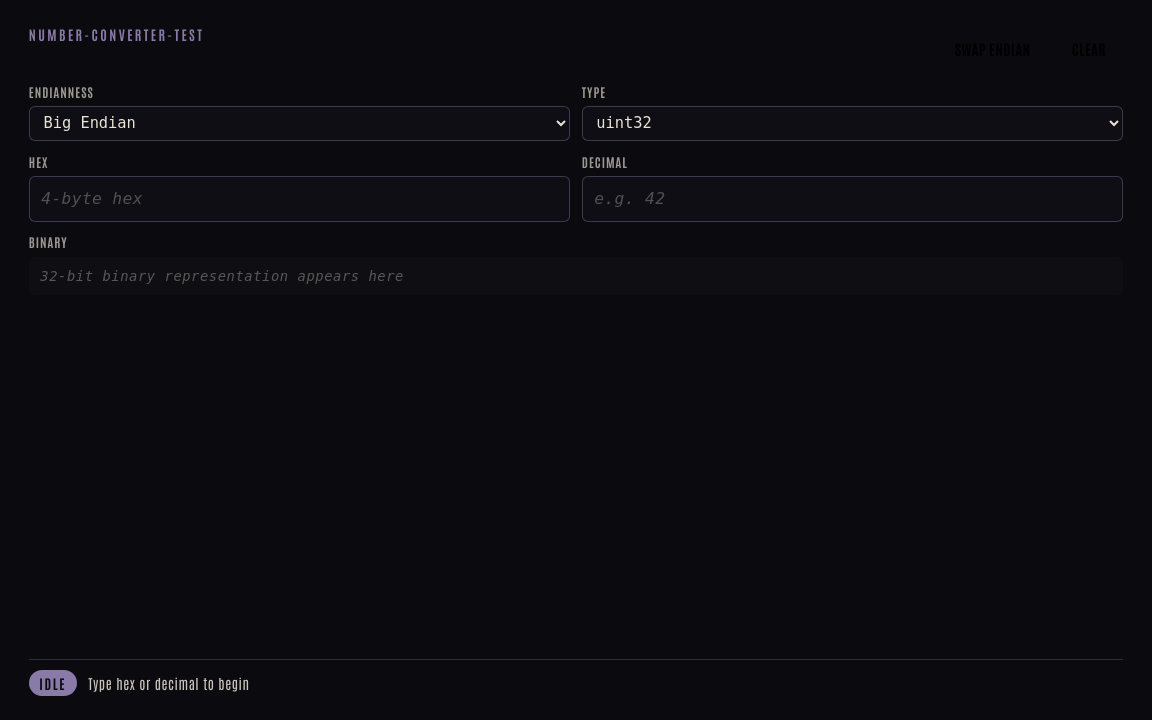
Test: NumberConverter › typing decimal derives the hex field (uint32 BE default)
Type "305419896" into the field named "Decimal value input" at {"x": 853, "y": 199}, box [582,176,1123,222]
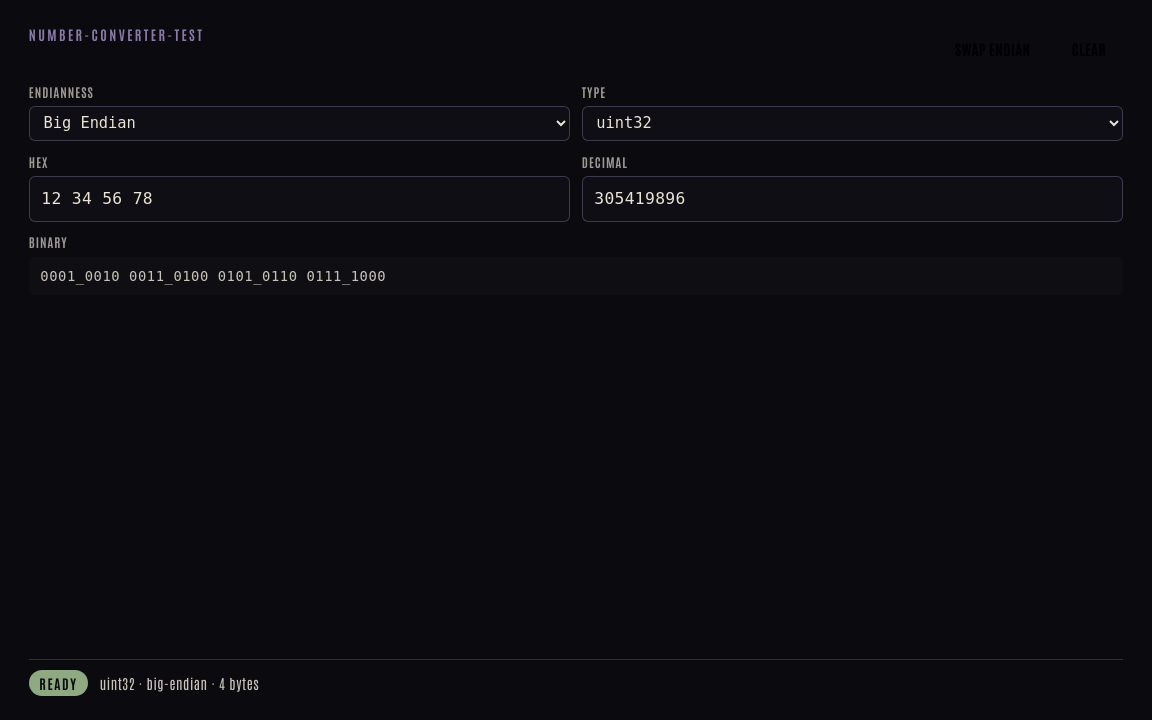
expect the field named "Hex value input" holds "12 34 56 78": met, box [29,176,570,222]
